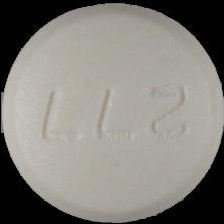0378-0277: (0, 0, 224, 224)
